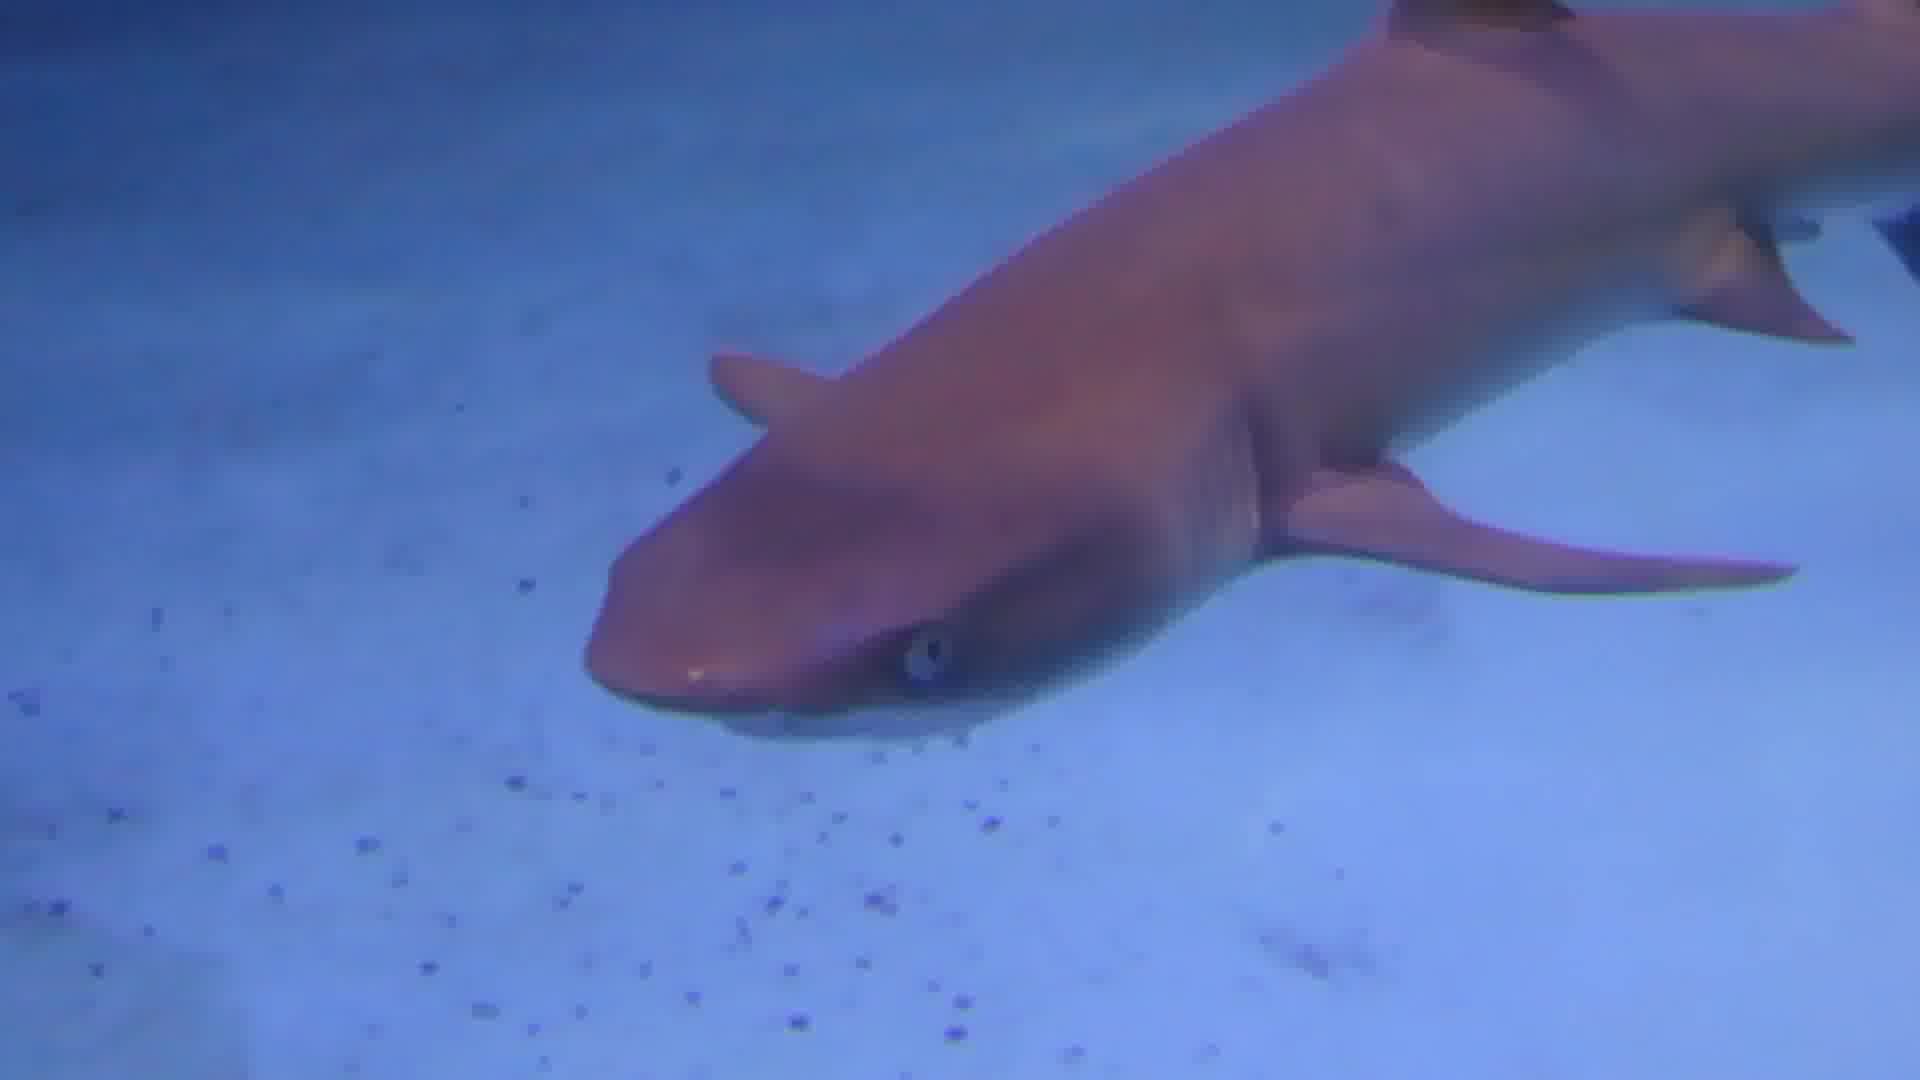Triaenodon obesus: (568, 24, 1894, 738)
